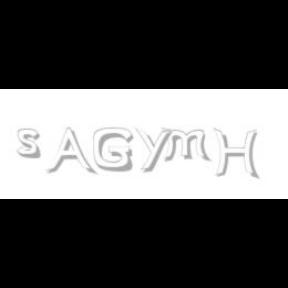A: (46, 128, 94, 176)
G: (93, 128, 133, 172)
H: (213, 128, 259, 180)
m: (160, 128, 212, 162)
s: (17, 128, 45, 160)
y: (135, 128, 175, 172)
